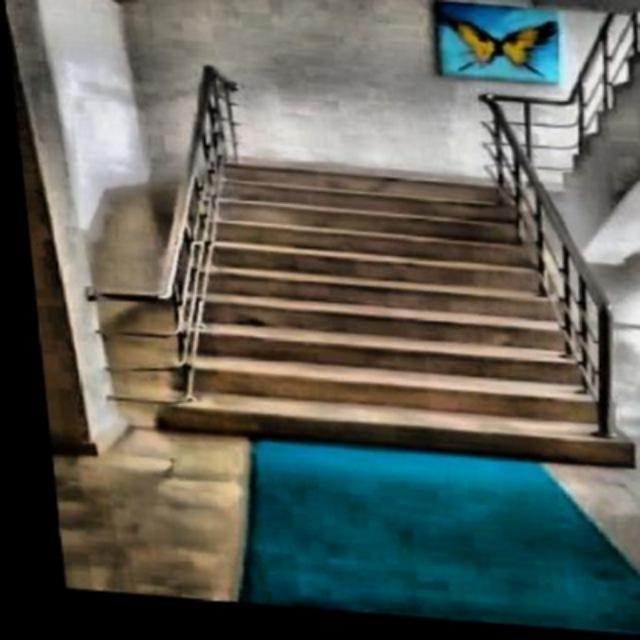stair: (128, 168, 634, 477)
